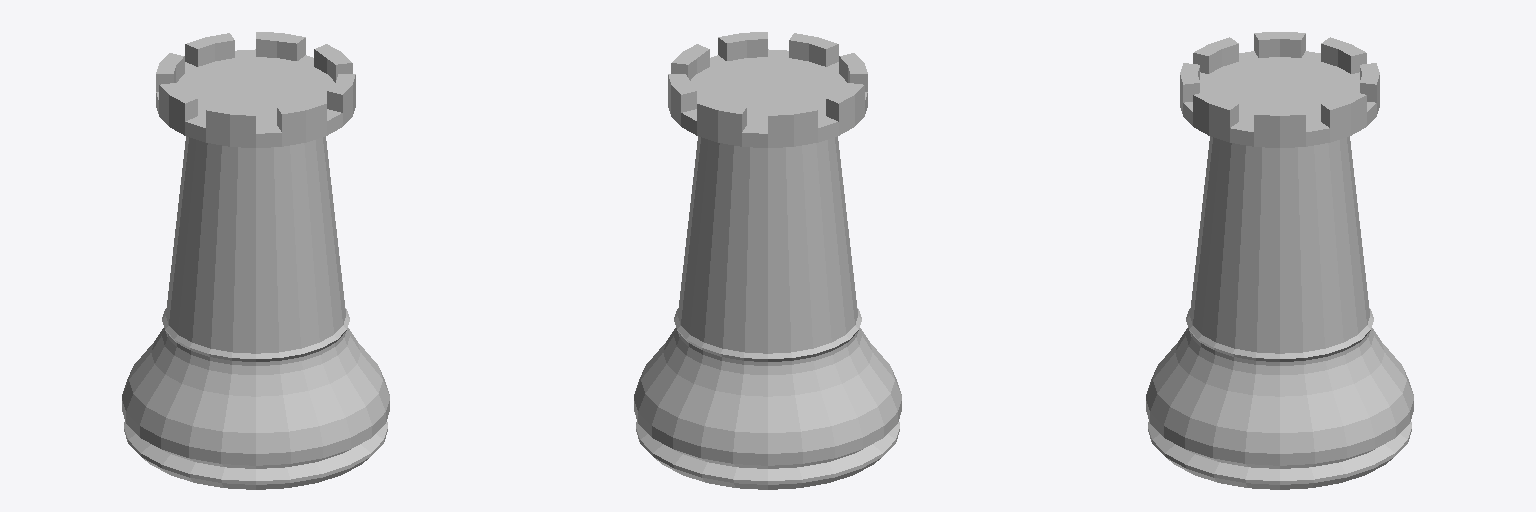
Rendered from rook.obj.
3 views of the same model, side by side, from view 1: azimuth 30°, elevation 25°; view 2: azimuth 150°, elevation 25°; view 3: azimuth 270°, elevation 25° (orthographic).
Visible parts, largest first — view 1: Mesh1 Model; view 2: Mesh1 Model; view 3: Mesh1 Model.
Boxes of the visible parts, <box> form: Mesh1 Model: <box>122,32,389,489</box>; Mesh1 Model: <box>634,32,901,489</box>; Mesh1 Model: <box>1146,32,1413,489</box>.
Bounding box in the file's own units: 0.7815 × 1.17 × 0.7815.